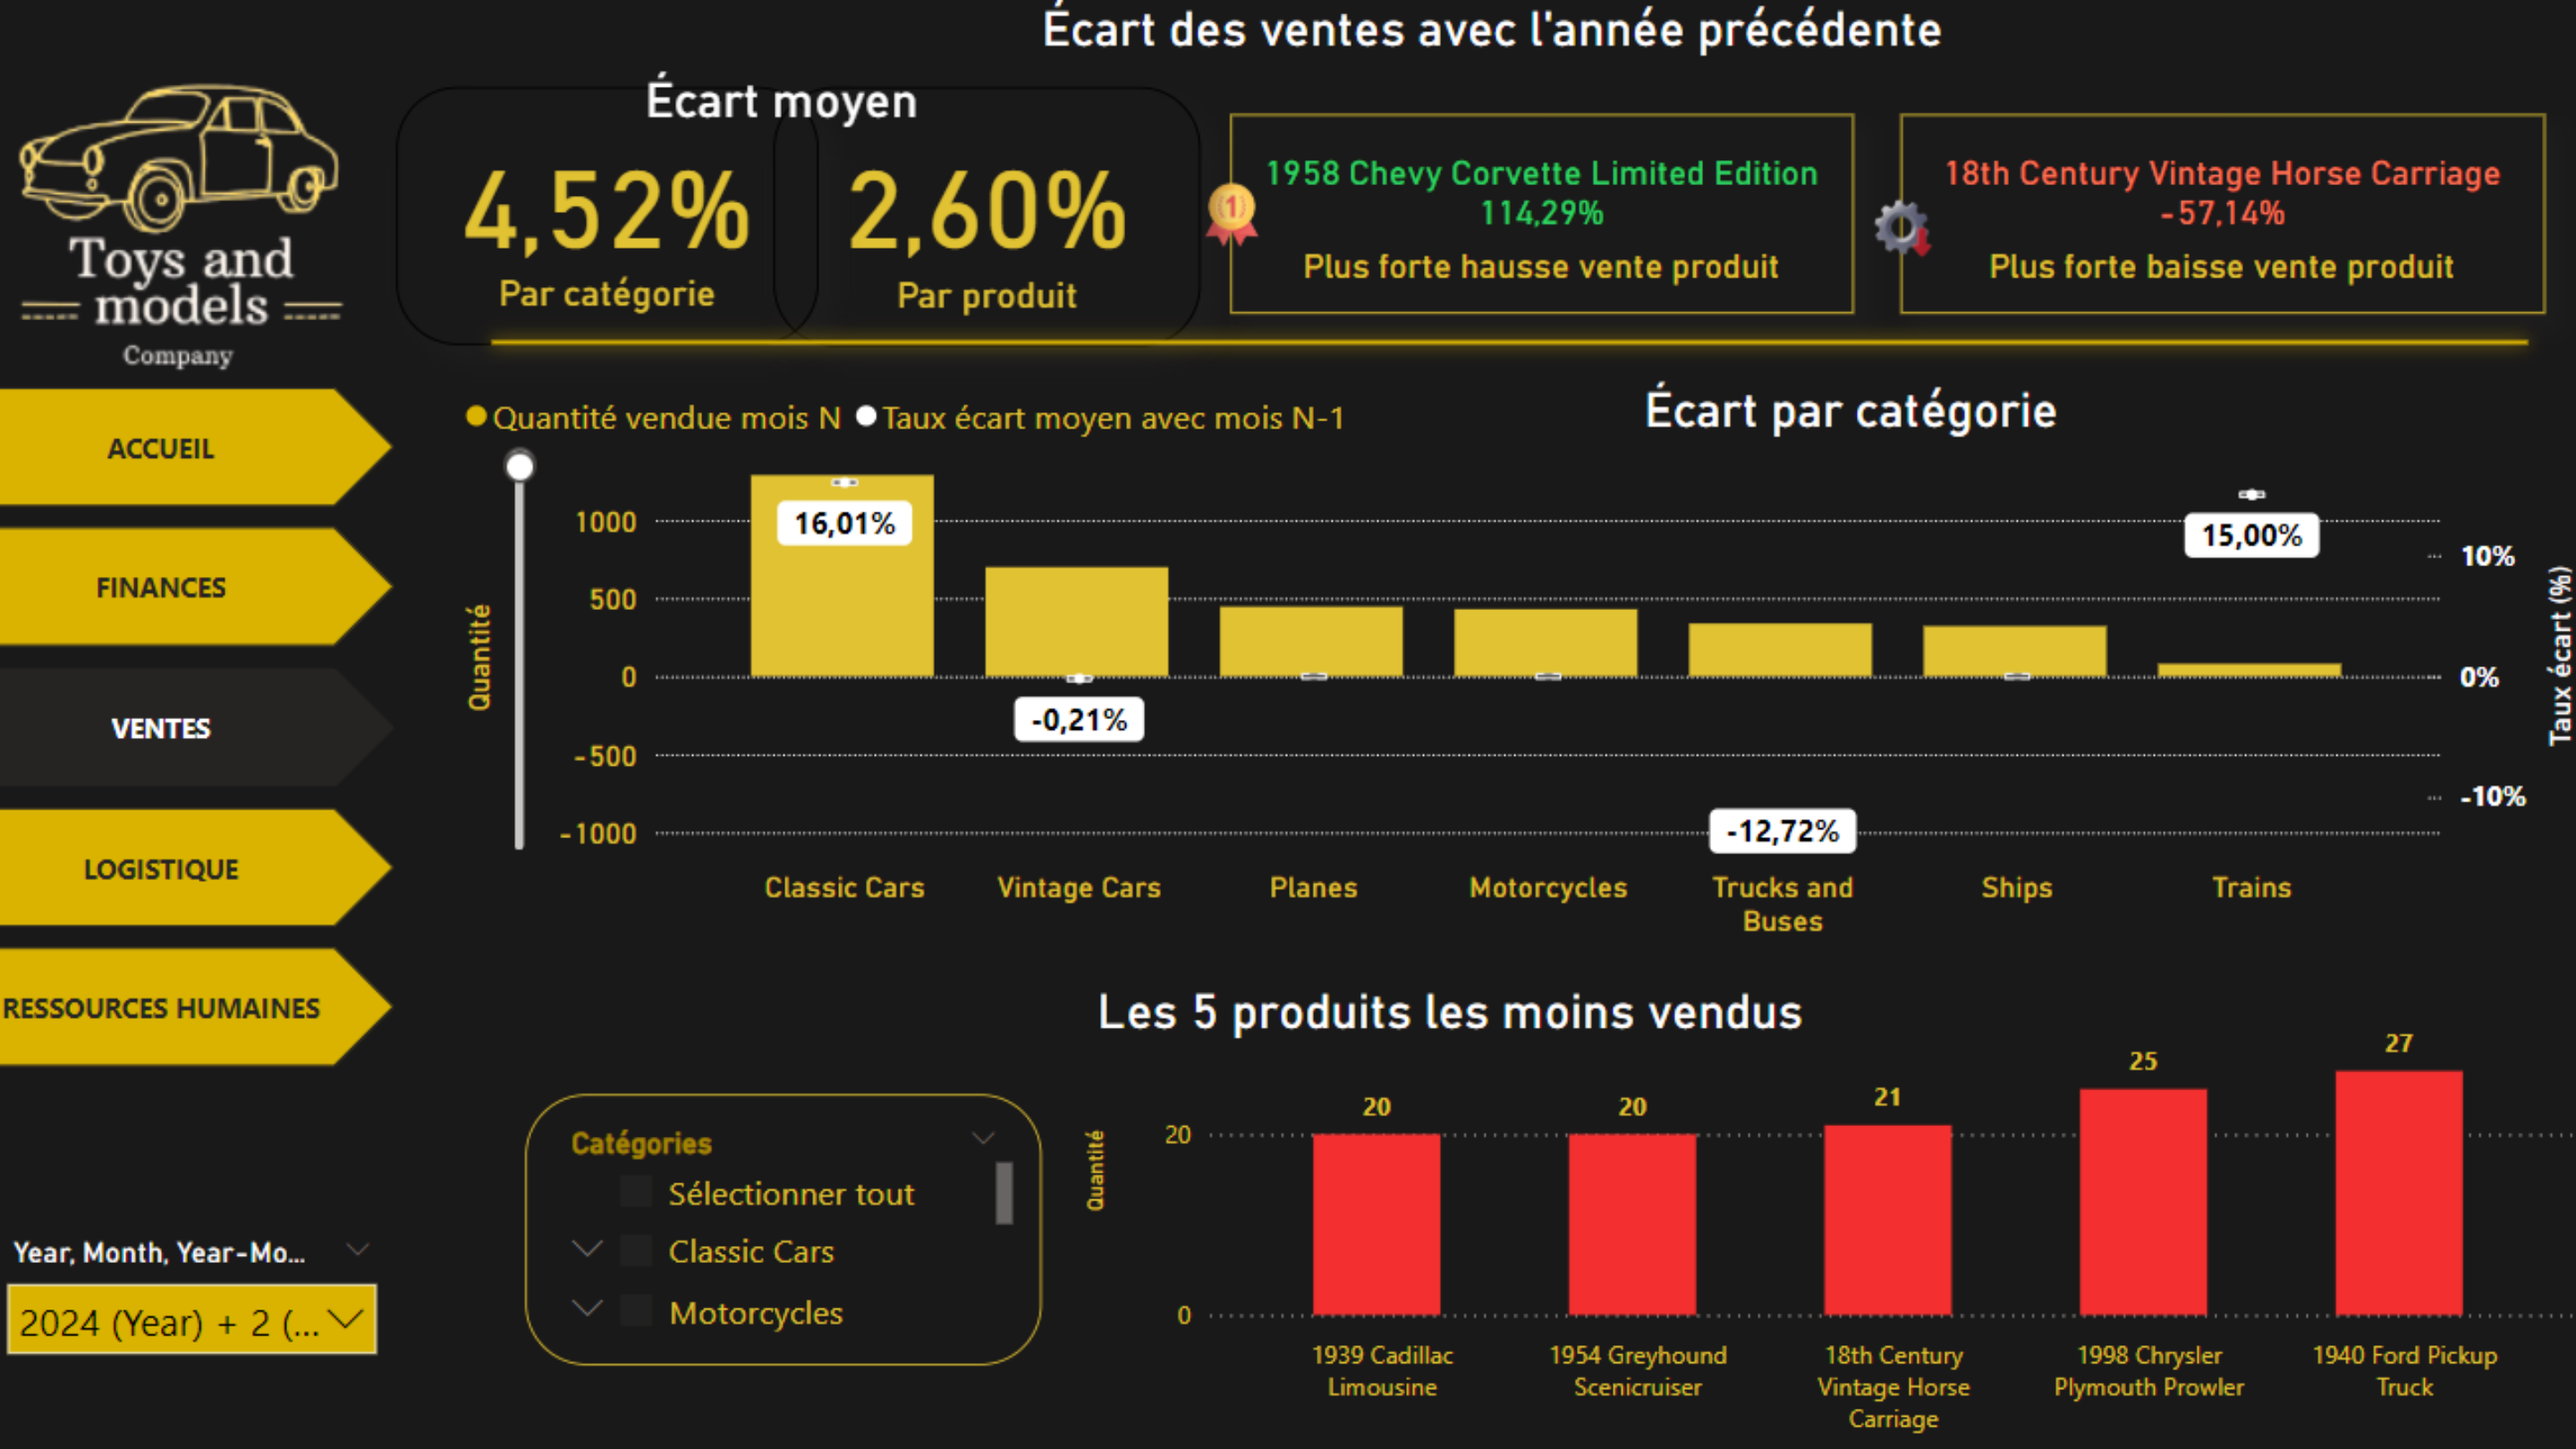

What the dashboard file says about the page in this screenshot:
{"tool":"powerbi","page":{"name":"VENTES","canvas":[1280,720],"ordinal":2},"visuals":[{"type":"image","box":[0,0,194.3,219.4],"z":0},{"type":"pageNavigator","box":[0,195.6,201.1,335.6],"z":1000},{"type":"columnChart","title":"Les 5 produits les moins  vendus","fields":{"Category":["Ventes 4.productName"],"Y":["Sum(Ventes 4.current_year_sales)"]},"box":[535.2,496.7,745.1,223.7],"z":2000},{"type":"slicer","fields":{"Values":["Datum.Year","Datum.Month","Datum.Year-Month"]},"box":[0,610.8,201.5,93.3],"z":3000},{"type":"actionButton","box":[0,0,100,40],"z":4000},{"type":"textbox","box":[370,0,748.9,65.6],"z":5000},{"type":"textbox","box":[802.4,187.8,232.6,42.3],"z":6000},{"type":"lineClusteredColumnComboChart","title":"Ecart ventes avec année précédente par catégorie","fields":{"Category":["Ventes 4.Categorie"],"Y":["Sum(Ventes 4.current_year_sales)"],"Y2":["Avg(Ventes 4.valeur_taux)"]},"box":[230.1,187.8,1049.9,287.4],"z":7000},{"type":"slicer","fields":{"Values":["Unique_type.categorie","Ventes 3.productName"]},"box":[265.6,544.4,254.4,133.3],"z":8000},{"type":"card","title":"Ecart moyen  global  avec année précédente","fields":{"Values":["Ventes.Minimum_taux"]},"box":[942.9,61,317.2,98.3],"z":9000},{"type":"card","title":"Ecart moyen  global  avec année précédente","fields":{"Values":["Ventes.Maximum_taux"]},"box":[612,61,307.3,98.3],"z":10000},{"type":"image","box":[588.4,90.8,51,41.1],"z":11000},{"type":"textbox","box":[534.9,483.9,379.4,47.3],"z":12000},{"type":"card","title":"Ecart moyen  global  avec année précédente","fields":{"Values":["Avg(Ventes 4.valeur_taux)"]},"box":[388.1,47.3,210.2,128.1],"z":13000},{"type":"card","title":"Ecart moyen  global  avec année précédente","fields":{"Values":["Ventes 4.EcartMoyenParCategorie"]},"box":[201.5,47.3,207.7,126.9],"z":14000},{"type":"textbox","box":[298.9,35.6,186.7,42.2],"z":15000},{"type":"image","box":[913.1,82.1,61,54.7],"z":16000},{"type":"shape","box":[241.3,31.1,1018.8,286.1],"z":17000}]}

Visuals, with their boxes in screenshot pixels (x1, y1, x2, y2), scaled from the page's 1280x720 canvas onto the 2576x1449 screenshot:
image: (x1=0, y1=0, x2=391, y2=442)
pageNavigator: (x1=0, y1=394, x2=404, y2=1069)
"Les 5 produits les moins  vendus" columnChart: (x1=1077, y1=1000, x2=2575, y2=1448)
slicer - Datum.Year x Datum.Month: (x1=0, y1=1229, x2=405, y2=1417)
actionButton: (x1=0, y1=0, x2=201, y2=80)
textbox: (x1=744, y1=0, x2=2252, y2=132)
textbox: (x1=1614, y1=378, x2=2083, y2=463)
"Ecart ventes avec année précédente par catégorie" lineClusteredColumnComboChart: (x1=463, y1=378, x2=2575, y2=956)
slicer - Unique_type.categorie x Ventes 3.productName: (x1=535, y1=1096, x2=1046, y2=1364)
"Ecart moyen  global  avec année précédente" card: (x1=1898, y1=123, x2=2536, y2=320)
"Ecart moyen  global  avec année précédente" card: (x1=1232, y1=123, x2=1850, y2=320)
image: (x1=1184, y1=182, x2=1287, y2=266)
textbox: (x1=1077, y1=974, x2=1840, y2=1069)
"Ecart moyen  global  avec année précédente" card: (x1=781, y1=95, x2=1204, y2=353)
"Ecart moyen  global  avec année précédente" card: (x1=405, y1=95, x2=824, y2=351)
textbox: (x1=602, y1=72, x2=978, y2=157)
image: (x1=1837, y1=165, x2=1961, y2=275)
shape: (x1=486, y1=63, x2=2536, y2=639)
